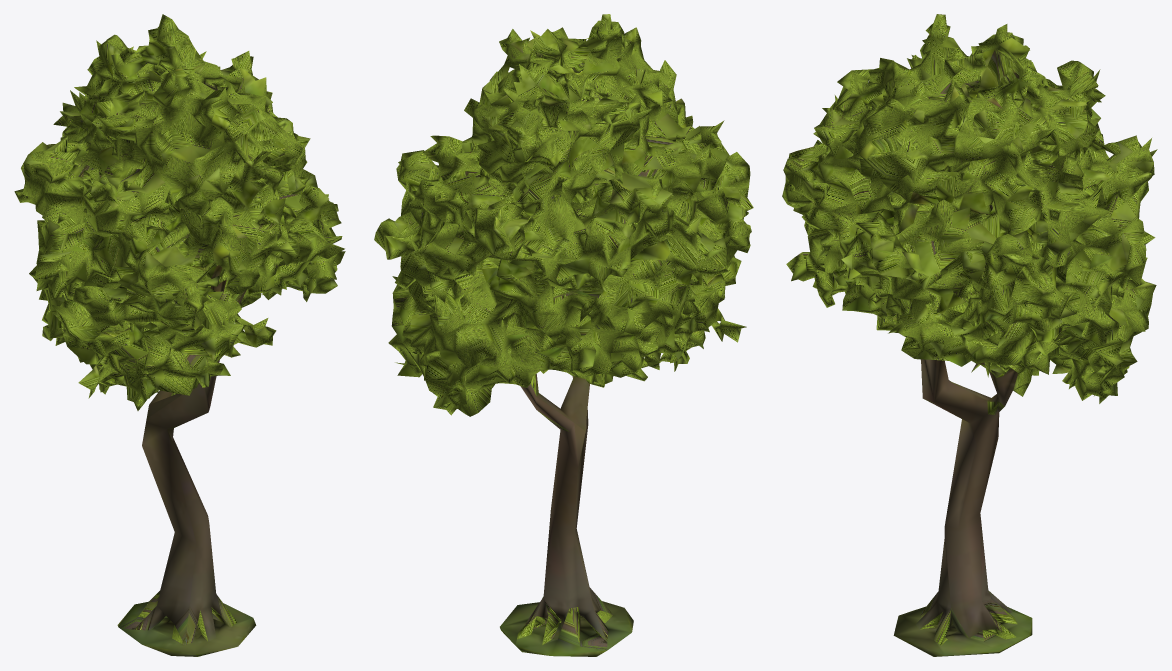
The model's file is arvore_nova1_mobile.glb.
The picture shows the model from 3 angles, left to right: view 1: azimuth 30°, elevation 25°; view 2: azimuth 150°, elevation 25°; view 3: azimuth 270°, elevation 25°; orthographic projection. The views are drawn at different scales.
Parts seen in each view (by area): view 1: mesh_0; view 2: mesh_0; view 3: mesh_0.
Part boxes in pixels (<box>): mesh_0: <box>14,14,345,656</box>; mesh_0: <box>374,14,753,656</box>; mesh_0: <box>782,14,1157,656</box>.
Size of the model in its own units: 1.05 by 2 by 1.12.
1 material, 1 textured.
